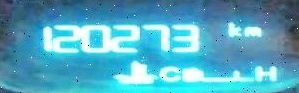0: (78, 24, 108, 53)
1: (37, 23, 51, 55)
2: (110, 22, 137, 54), (51, 22, 78, 53)
3: (169, 22, 198, 52)
7: (141, 22, 168, 53)
X: (252, 62, 282, 84), (157, 64, 180, 83), (240, 24, 266, 37), (225, 20, 240, 37)
